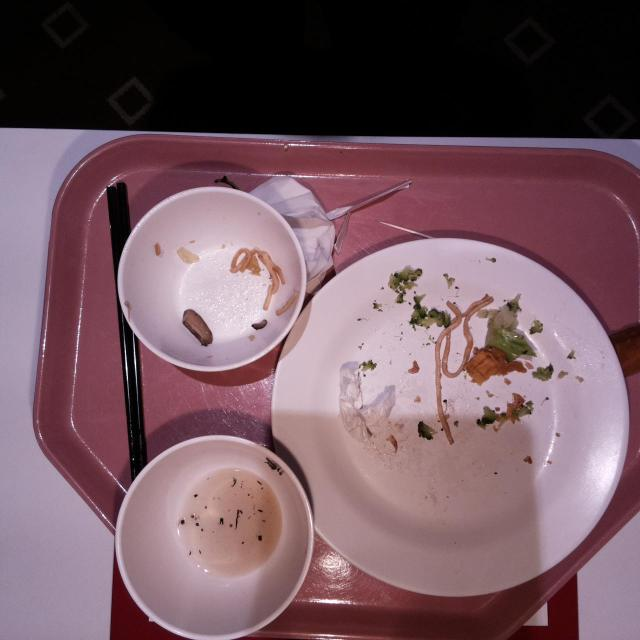Vegetable: (487, 323, 535, 361), (386, 266, 424, 302), (408, 300, 450, 330)
